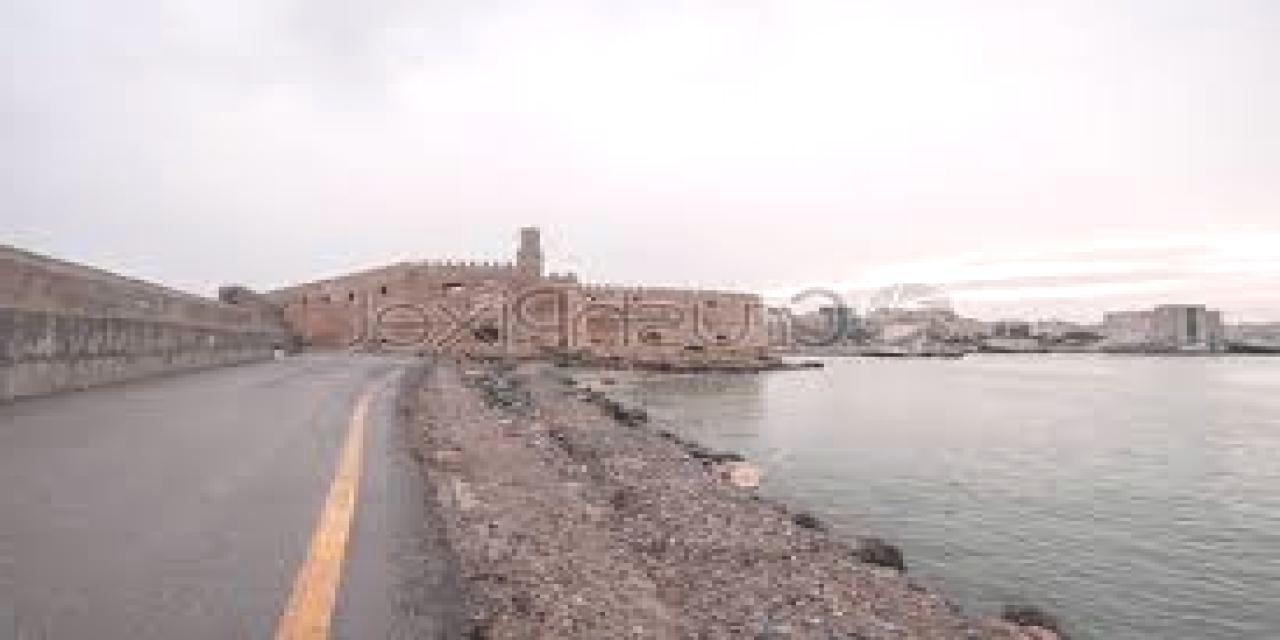Kules: (259, 224, 768, 355)
